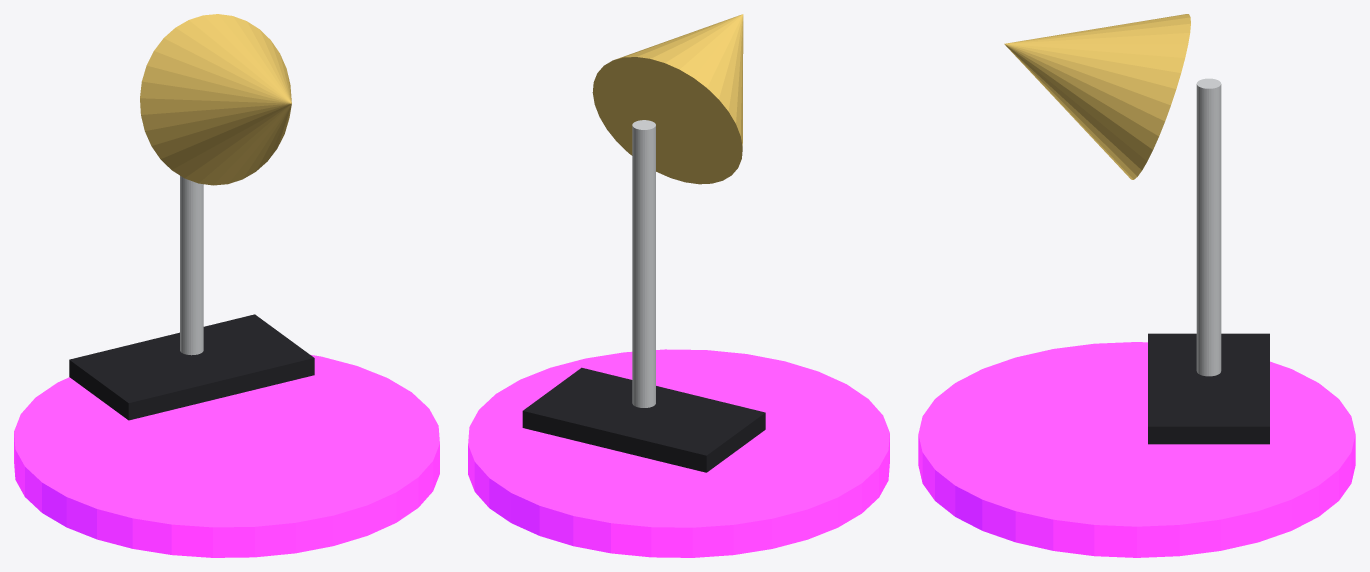
File: modelling_studio_light.glb
The picture shows the model from 3 angles, left to right: view 1: azimuth 30°, elevation 25°; view 2: azimuth 150°, elevation 25°; view 3: azimuth 270°, elevation 25°; orthographic projection. The views are drawn at different scales.
Visible parts, largest first — view 1: 05_02_Popular_Modelling_Studio_Light_ROOT_base, 05_02_Popular_Modelling_Studio_Light_part_02, 05_02_Popular_Modelling_Studio_Light_part_03, 05_02_Popular_Modelling_Studio_Light_part_01; view 2: 05_02_Popular_Modelling_Studio_Light_ROOT_base, 05_02_Popular_Modelling_Studio_Light_part_02, 05_02_Popular_Modelling_Studio_Light_part_03, 05_02_Popular_Modelling_Studio_Light_part_01; view 3: 05_02_Popular_Modelling_Studio_Light_ROOT_base, 05_02_Popular_Modelling_Studio_Light_part_02, 05_02_Popular_Modelling_Studio_Light_part_03, 05_02_Popular_Modelling_Studio_Light_part_01.
Boxes of the visible parts, bbox=[...] form: 05_02_Popular_Modelling_Studio_Light_ROOT_base: bbox=[14, 355, 439, 557]; 05_02_Popular_Modelling_Studio_Light_part_02: bbox=[140, 14, 291, 185]; 05_02_Popular_Modelling_Studio_Light_part_03: bbox=[69, 314, 314, 420]; 05_02_Popular_Modelling_Studio_Light_part_01: bbox=[180, 176, 203, 355]; 05_02_Popular_Modelling_Studio_Light_ROOT_base: bbox=[468, 349, 889, 557]; 05_02_Popular_Modelling_Studio_Light_part_02: bbox=[592, 14, 743, 184]; 05_02_Popular_Modelling_Studio_Light_part_03: bbox=[522, 367, 765, 472]; 05_02_Popular_Modelling_Studio_Light_part_01: bbox=[632, 120, 655, 407]; 05_02_Popular_Modelling_Studio_Light_ROOT_base: bbox=[918, 342, 1355, 557]; 05_02_Popular_Modelling_Studio_Light_part_02: bbox=[1004, 14, 1190, 179]; 05_02_Popular_Modelling_Studio_Light_part_03: bbox=[1148, 333, 1269, 444]; 05_02_Popular_Modelling_Studio_Light_part_01: bbox=[1196, 78, 1221, 376].
Bounding box in the file's own units: 0.76 × 0.85 × 0.76.
